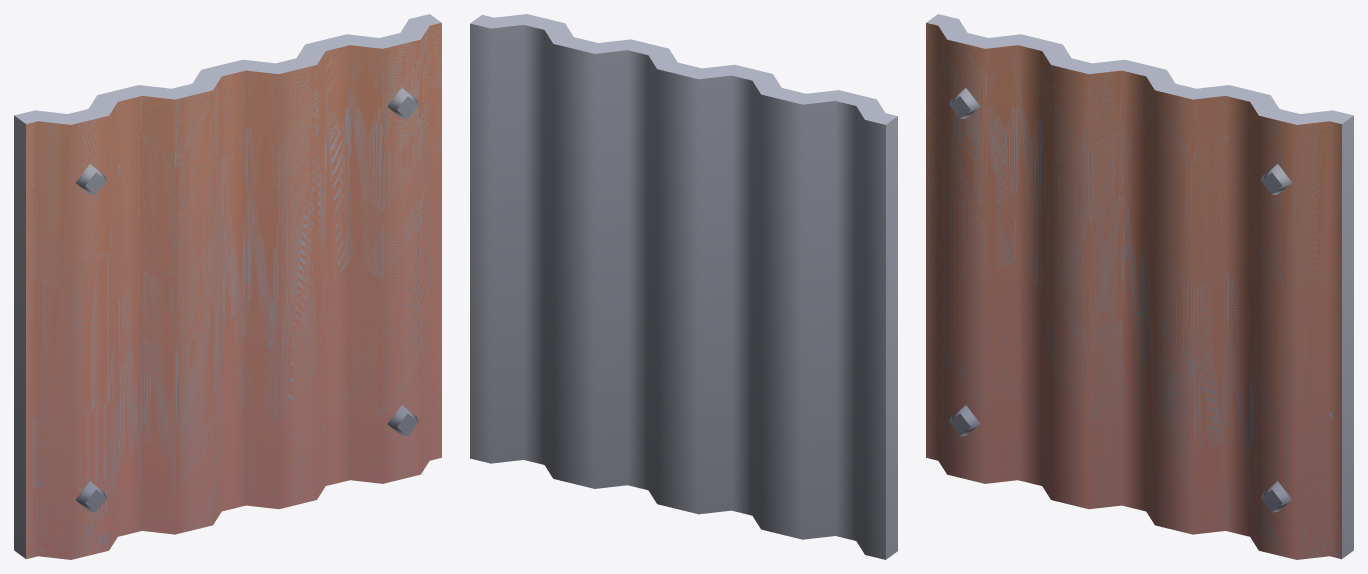
Rendered from metal-panel-screws.glb.
3 views of the same model, side by side, from view 1: azimuth 30°, elevation 25°; view 2: azimuth 150°, elevation 25°; view 3: azimuth 330°, elevation 25° (orthographic).
Parts seen in each view (by area): view 1: metal-panel-screws; view 2: metal-panel-screws; view 3: metal-panel-screws.
Part boxes in pixels (x1,y1,x2,y2): metal-panel-screws: (14, 14, 441, 559); metal-panel-screws: (470, 14, 897, 559); metal-panel-screws: (926, 14, 1353, 559).
Size of the model in its own units: 0.5 by 0.5 by 0.0625.
